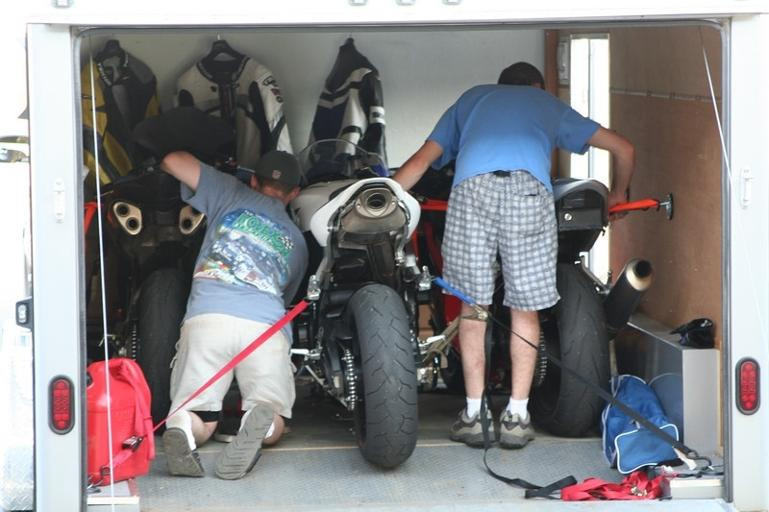non-vehicle: (245, 134, 444, 470), (412, 168, 652, 437), (89, 104, 242, 434)
